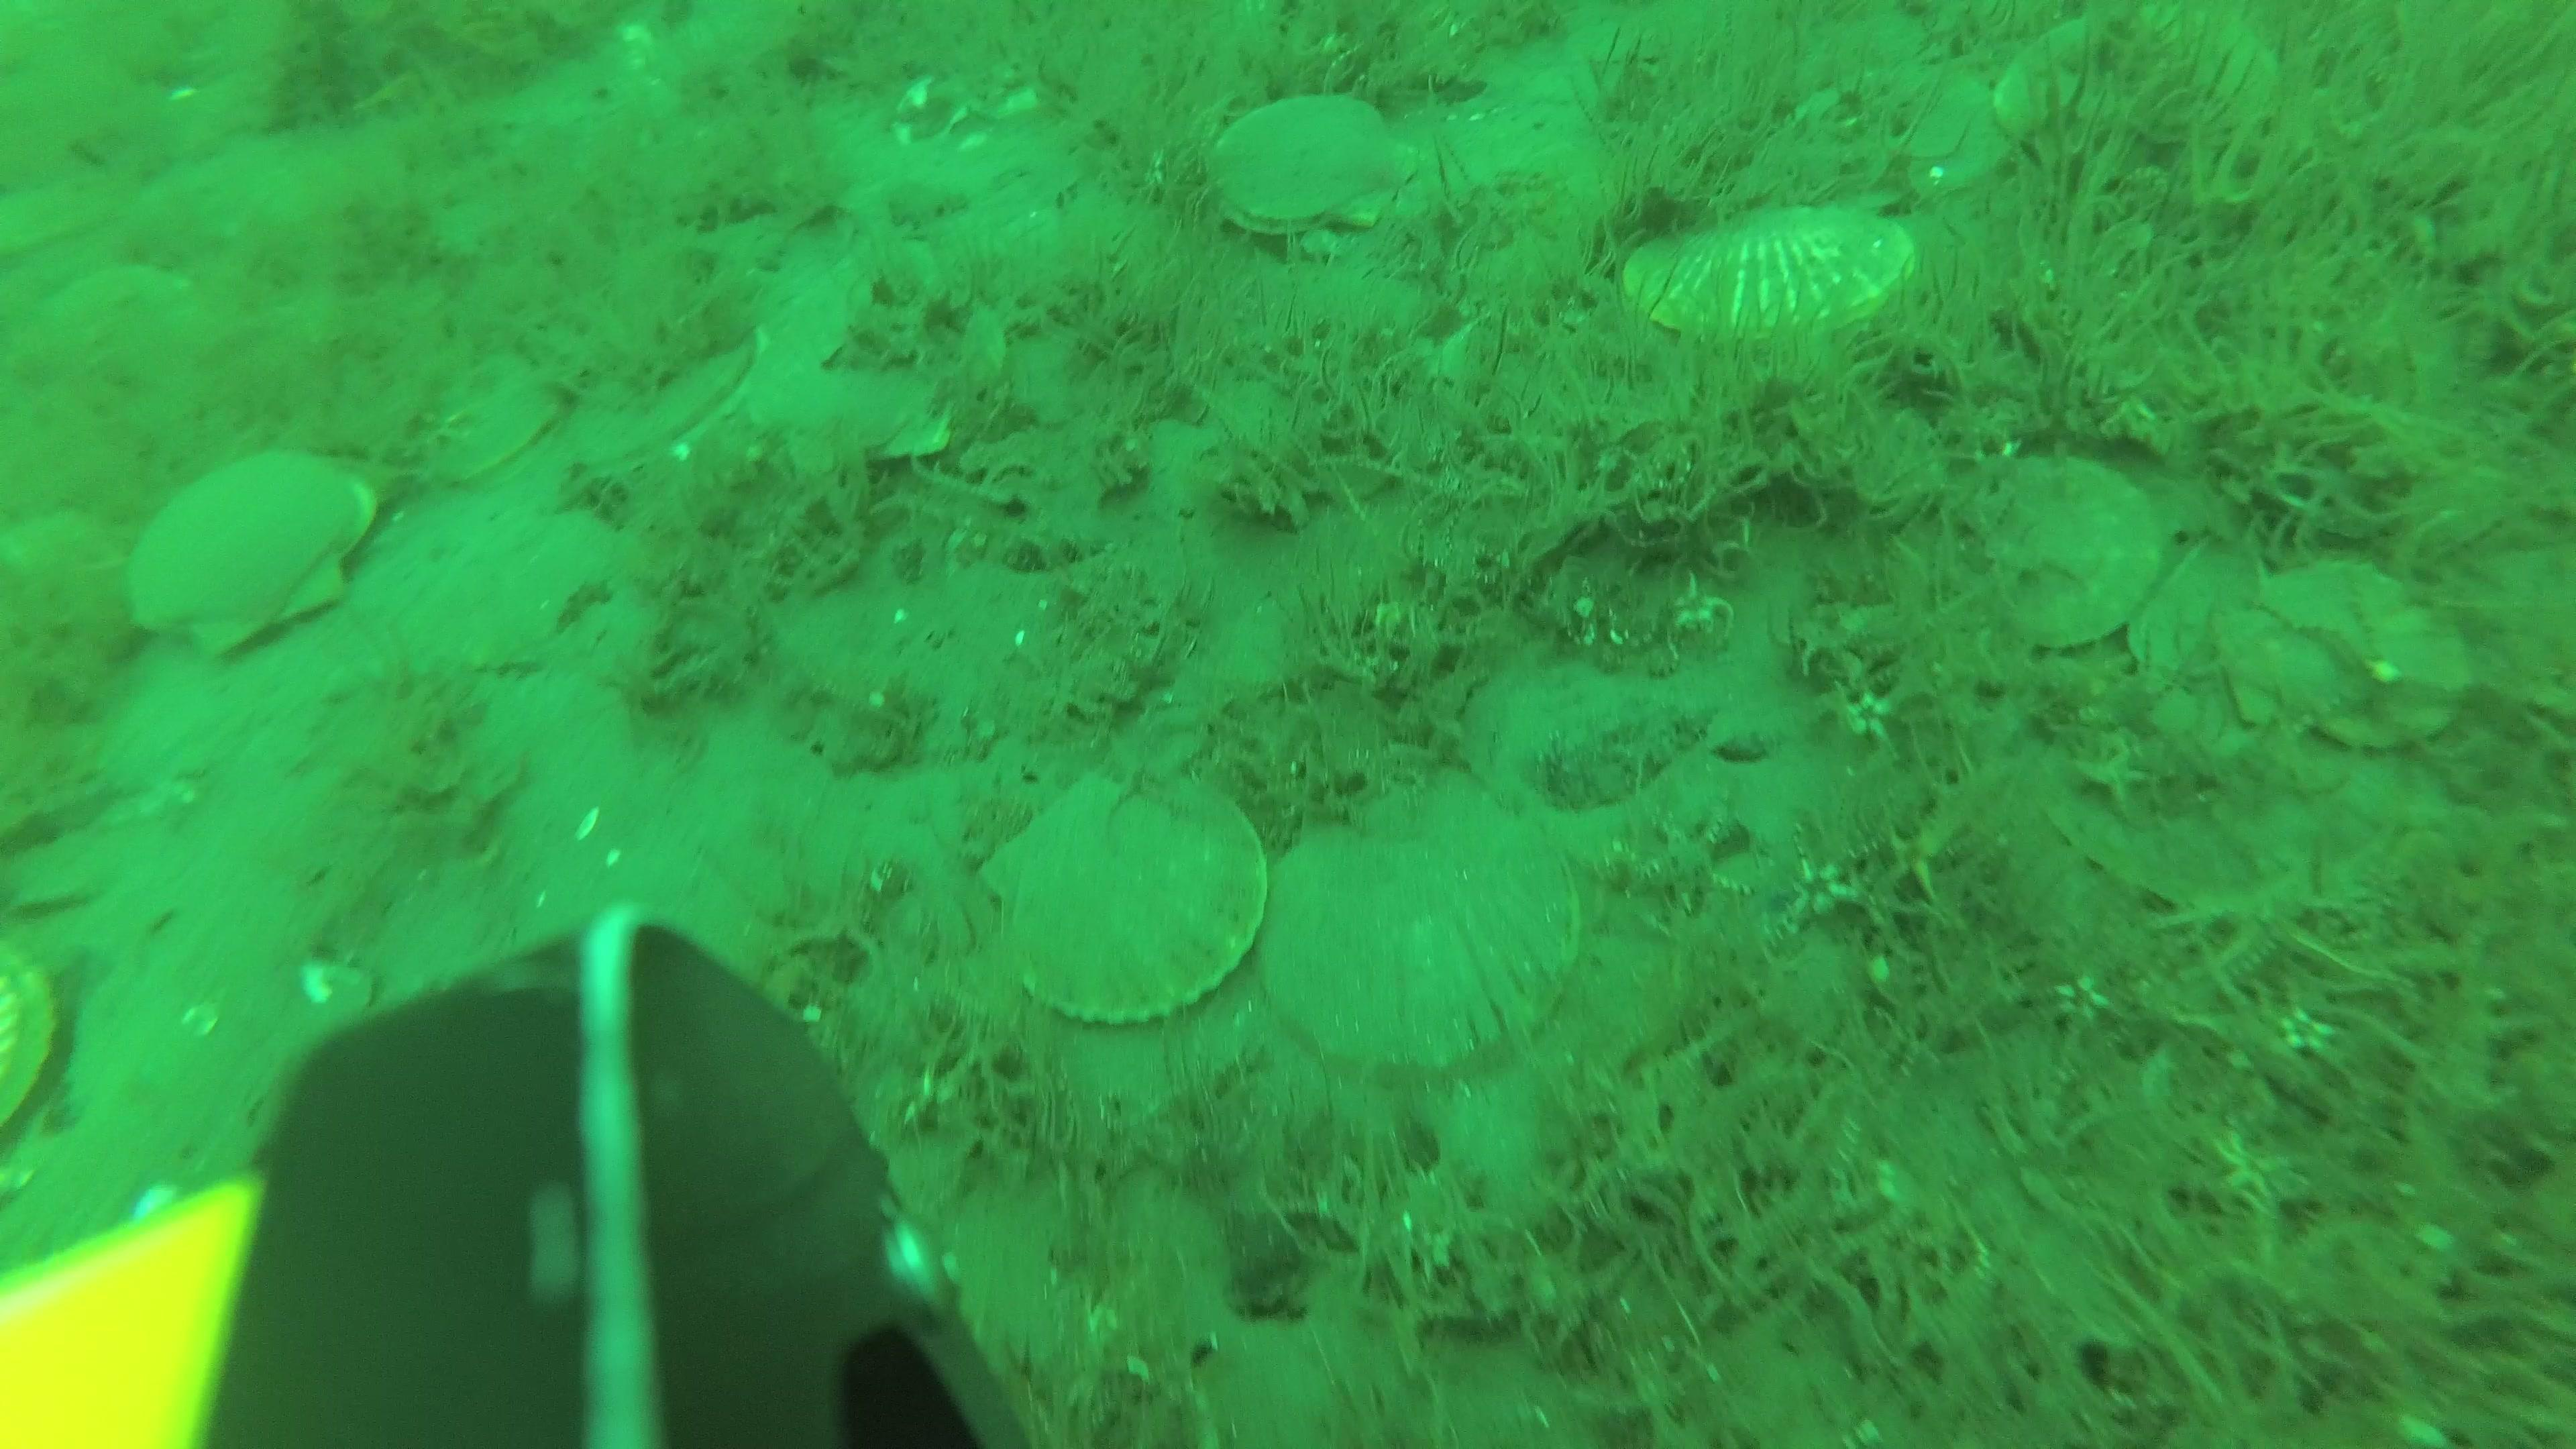scallop: (1276, 791, 1582, 1062), (968, 759, 1274, 1021), (752, 267, 1012, 474), (2219, 548, 2470, 748), (124, 460, 384, 653), (1987, 7, 2275, 152), (1619, 209, 1918, 343), (1973, 441, 2155, 655), (1208, 87, 1430, 241), (414, 366, 561, 481)
